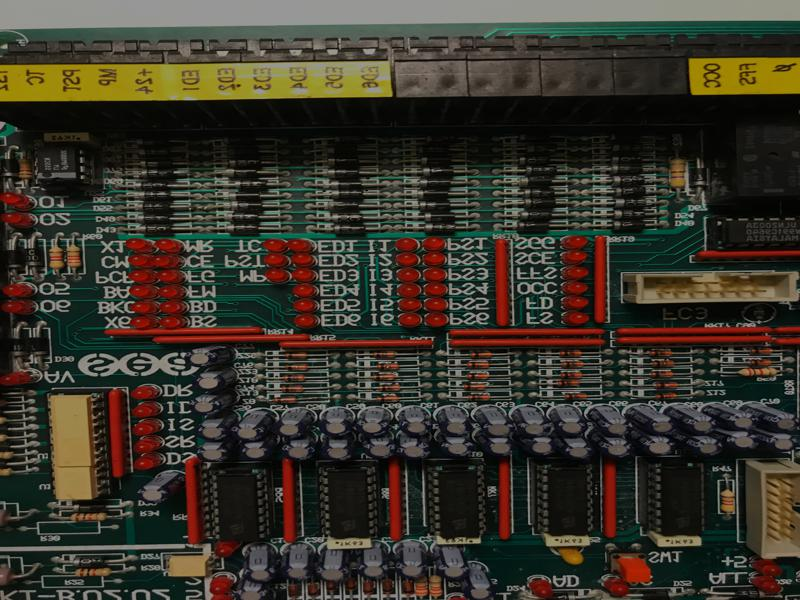Capacitor: (736, 401, 800, 435), (624, 403, 677, 436), (701, 402, 758, 432), (138, 471, 186, 505), (665, 404, 716, 435), (230, 410, 277, 443), (586, 404, 631, 438), (674, 430, 724, 460), (472, 405, 517, 438), (589, 430, 634, 463), (432, 541, 469, 581), (242, 543, 278, 584), (353, 542, 391, 580), (281, 543, 316, 583), (712, 427, 761, 455), (631, 429, 678, 458), (195, 411, 238, 442), (317, 545, 352, 582), (395, 541, 428, 579), (513, 406, 552, 438), (183, 346, 236, 369), (435, 405, 473, 437), (277, 406, 316, 437), (548, 405, 587, 436), (320, 434, 358, 465), (197, 437, 240, 464), (462, 564, 494, 600), (355, 406, 392, 437), (476, 428, 514, 458), (754, 428, 797, 454), (319, 406, 356, 436), (189, 392, 234, 416), (395, 407, 433, 435), (192, 370, 237, 393), (516, 432, 555, 458), (281, 436, 318, 463), (436, 433, 474, 459), (396, 432, 431, 460), (359, 435, 398, 460), (554, 435, 590, 460), (237, 441, 279, 461), (235, 577, 271, 600)
Diode: (63, 553, 123, 568), (319, 224, 379, 237), (505, 131, 563, 144), (406, 188, 463, 201), (631, 347, 692, 359), (405, 134, 465, 146), (217, 167, 272, 180), (596, 164, 654, 176), (128, 214, 191, 225), (128, 191, 191, 202), (409, 165, 466, 177), (597, 198, 654, 210), (598, 219, 655, 231), (543, 390, 599, 402), (130, 226, 191, 237), (129, 169, 190, 180), (60, 502, 121, 513), (689, 161, 708, 196), (595, 186, 654, 197), (596, 209, 655, 220), (216, 145, 274, 156), (595, 142, 653, 153), (364, 392, 413, 405), (454, 349, 507, 361), (128, 203, 191, 213), (29, 330, 50, 360), (24, 241, 43, 274), (217, 157, 274, 168), (269, 393, 326, 404), (319, 136, 367, 149), (224, 179, 275, 191), (128, 159, 189, 169), (596, 176, 651, 187), (453, 380, 508, 391), (271, 362, 326, 373), (128, 151, 188, 161), (321, 180, 371, 192), (545, 358, 599, 369), (128, 139, 187, 149), (215, 134, 274, 144), (407, 178, 466, 188), (407, 157, 460, 168), (508, 145, 561, 156), (727, 347, 780, 358), (363, 361, 416, 372), (270, 383, 323, 394), (271, 372, 324, 383), (726, 357, 784, 367), (634, 359, 692, 369), (511, 210, 559, 222), (10, 330, 28, 362), (319, 169, 371, 180), (364, 383, 416, 394), (322, 213, 373, 224), (453, 391, 509, 401), (321, 201, 371, 212), (413, 223, 463, 234), (225, 201, 267, 214), (129, 181, 189, 190), (411, 212, 465, 222), (545, 369, 599, 379), (320, 158, 369, 169), (271, 351, 324, 361), (222, 213, 266, 225), (594, 132, 652, 141), (595, 155, 653, 164), (223, 191, 270, 202), (409, 201, 456, 212), (2, 151, 18, 183), (7, 243, 23, 275), (507, 222, 558, 232), (637, 370, 688, 380), (637, 392, 692, 401), (507, 177, 561, 186), (637, 381, 691, 390), (222, 223, 266, 234), (540, 349, 600, 357), (509, 188, 562, 197), (508, 166, 561, 175), (360, 351, 413, 360), (457, 371, 504, 381), (404, 146, 462, 154), (322, 149, 368, 159), (454, 360, 505, 369), (543, 380, 598, 388), (362, 373, 413, 381), (511, 200, 560, 208), (509, 157, 557, 165), (321, 192, 371, 199)
LED: (1, 189, 35, 211), (750, 572, 782, 595), (750, 557, 782, 579), (1, 210, 37, 228), (130, 419, 163, 438), (527, 575, 554, 598), (1, 299, 37, 316), (561, 307, 593, 326), (601, 575, 629, 596), (210, 573, 235, 595), (2, 283, 35, 299), (214, 539, 240, 559), (131, 438, 163, 454), (1, 372, 40, 385), (130, 384, 161, 400), (131, 403, 162, 419), (559, 234, 589, 250), (559, 249, 589, 265), (155, 285, 187, 300), (562, 264, 590, 281), (560, 281, 591, 296), (560, 295, 591, 310), (422, 281, 449, 298), (125, 238, 155, 253), (155, 270, 185, 285), (287, 238, 315, 254), (157, 315, 189, 329), (133, 455, 161, 471), (129, 283, 155, 300), (151, 255, 182, 269), (158, 301, 189, 315), (421, 236, 448, 252), (264, 268, 291, 284), (291, 268, 318, 284), (130, 300, 157, 316), (293, 314, 319, 330), (127, 253, 151, 270), (128, 270, 157, 284), (263, 253, 290, 268), (130, 315, 157, 330), (422, 252, 447, 268), (424, 313, 449, 329), (422, 268, 448, 283), (156, 239, 182, 254), (293, 283, 317, 299), (424, 298, 449, 313), (395, 237, 420, 252), (397, 282, 420, 298), (398, 313, 421, 329), (394, 253, 420, 267), (290, 253, 316, 267), (398, 297, 422, 312), (263, 238, 287, 253), (293, 299, 318, 313), (396, 268, 420, 282)
Resistor: (668, 154, 688, 193), (63, 513, 121, 526), (64, 567, 123, 578), (723, 368, 782, 378), (66, 240, 83, 274), (48, 242, 65, 276), (720, 482, 734, 514), (20, 152, 32, 184), (429, 574, 443, 598), (414, 574, 428, 598)
